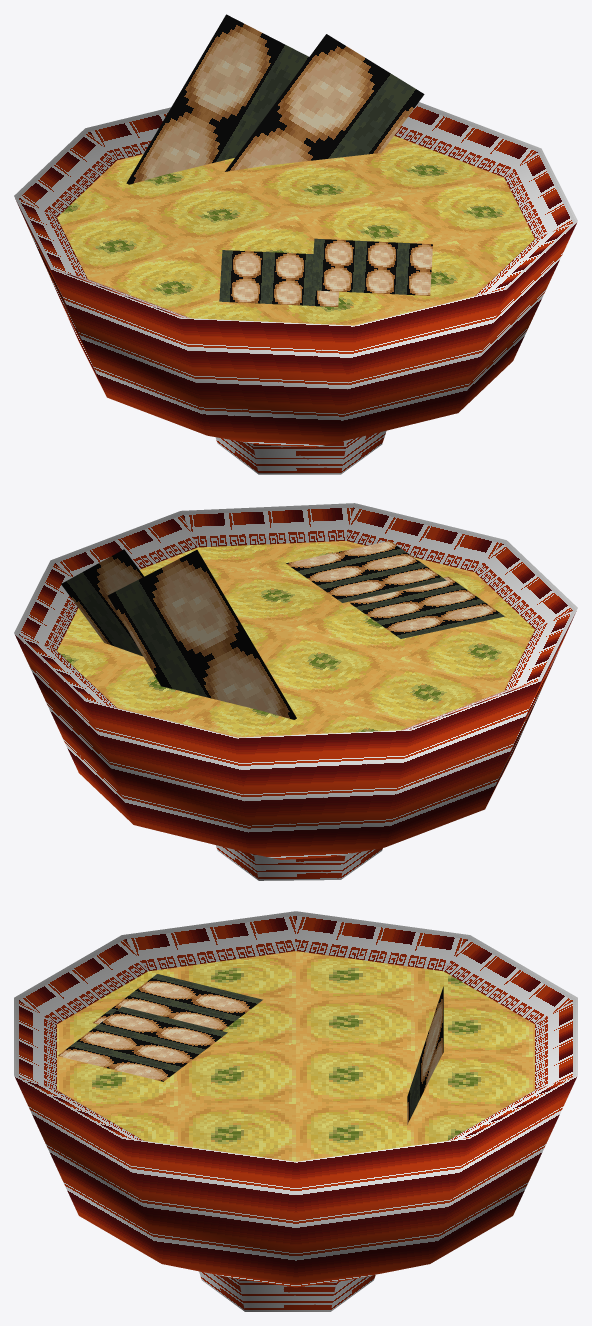
File: ramen_w.gltf
The picture shows the model from 3 angles, top to bottom: view 1: azimuth 30°, elevation 25°; view 2: azimuth 150°, elevation 25°; view 3: azimuth 270°, elevation 25°; orthographic projection. The views are drawn at different scales.
Visible parts, largest first — view 1: ramen_w; view 2: ramen_w; view 3: ramen_w.
Part boxes in pixels (left/top/right/bottom): ramen_w: left=14, top=14, right=577, bottom=474; ramen_w: left=14, top=503, right=577, bottom=880; ramen_w: left=14, top=911, right=577, bottom=1311.
Size of the model in its own units: 0.7769 by 0.5618 by 0.7388.
3 materials, 3 textured.
